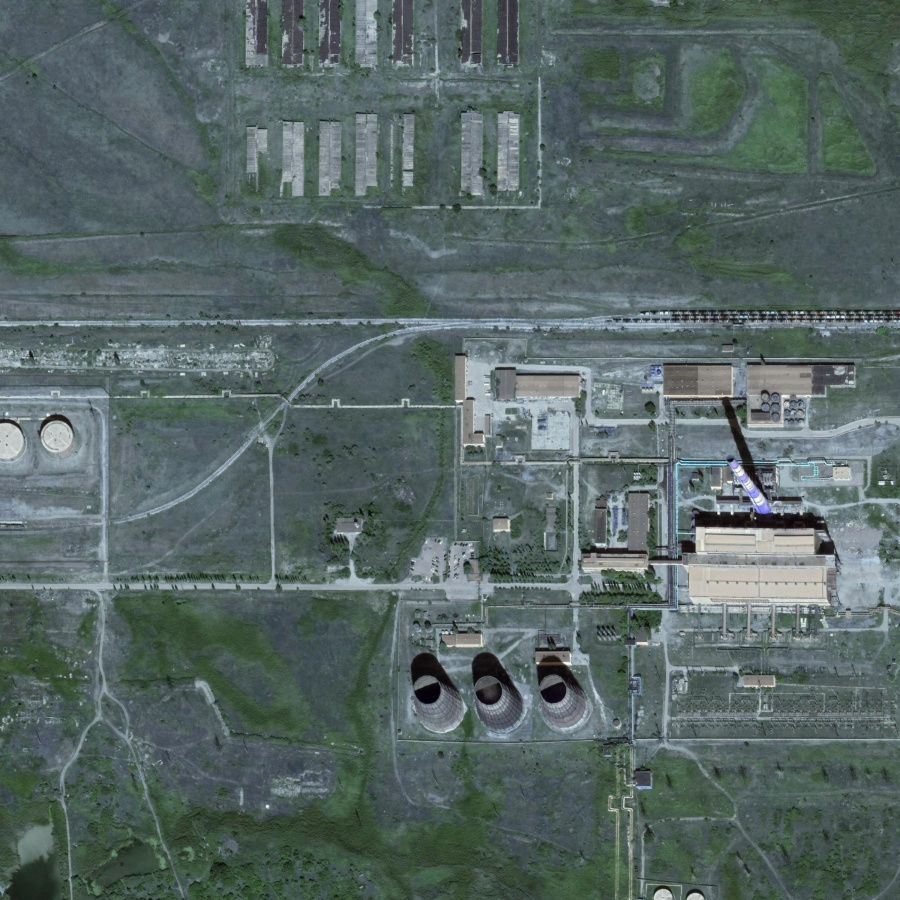PowerPlant: (384, 335, 866, 764)
